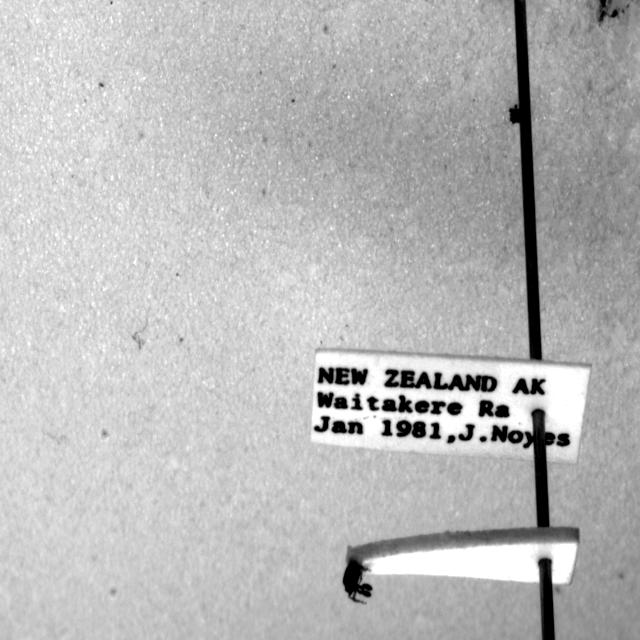typed_label: (311, 349, 590, 463)
